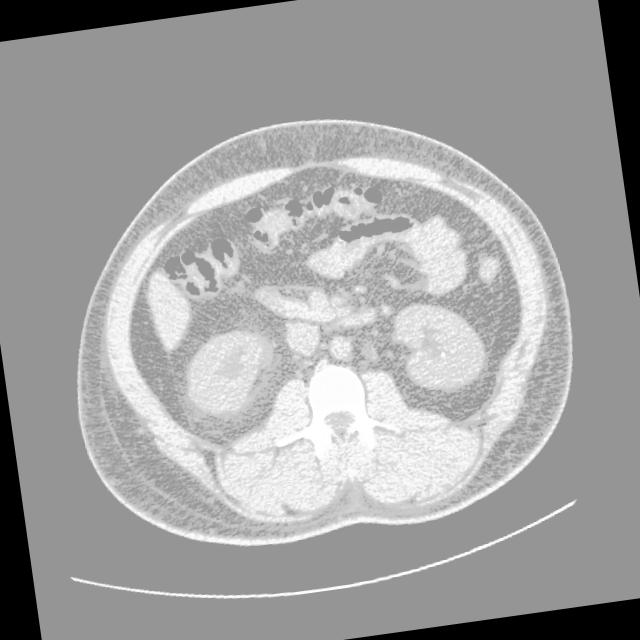STONE: (103, 107, 561, 412)
